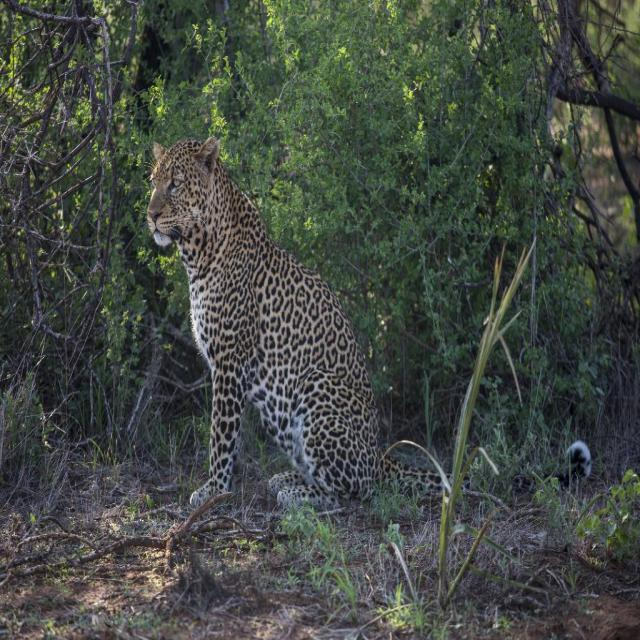Cheetah: (136, 128, 594, 515)
